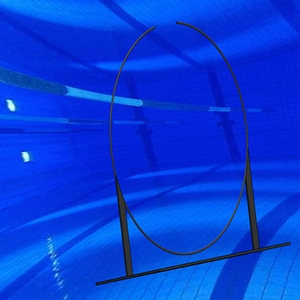circle: (95, 20, 292, 287)
